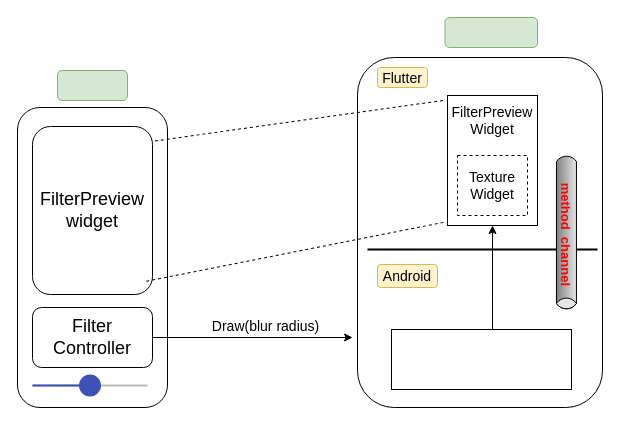
Some shapes in this 620 by 425 pixel diagram are drawn without their labels. The centre of each missing label's shape, as x and y in pixels:
"filter_app" belongs at (x=92, y=85).
"filter_plugin" belongs at (x=491, y=32).
"OpenGL Filter Output SurfaceTexture" belongs at (x=481, y=359).
